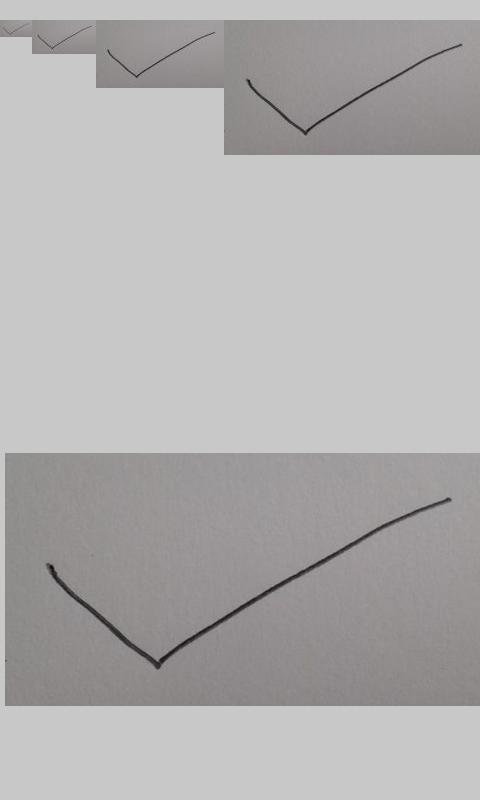check_box: (44, 498, 452, 668), (246, 43, 463, 136), (107, 32, 215, 78), (37, 26, 92, 49), (3, 23, 29, 35)
